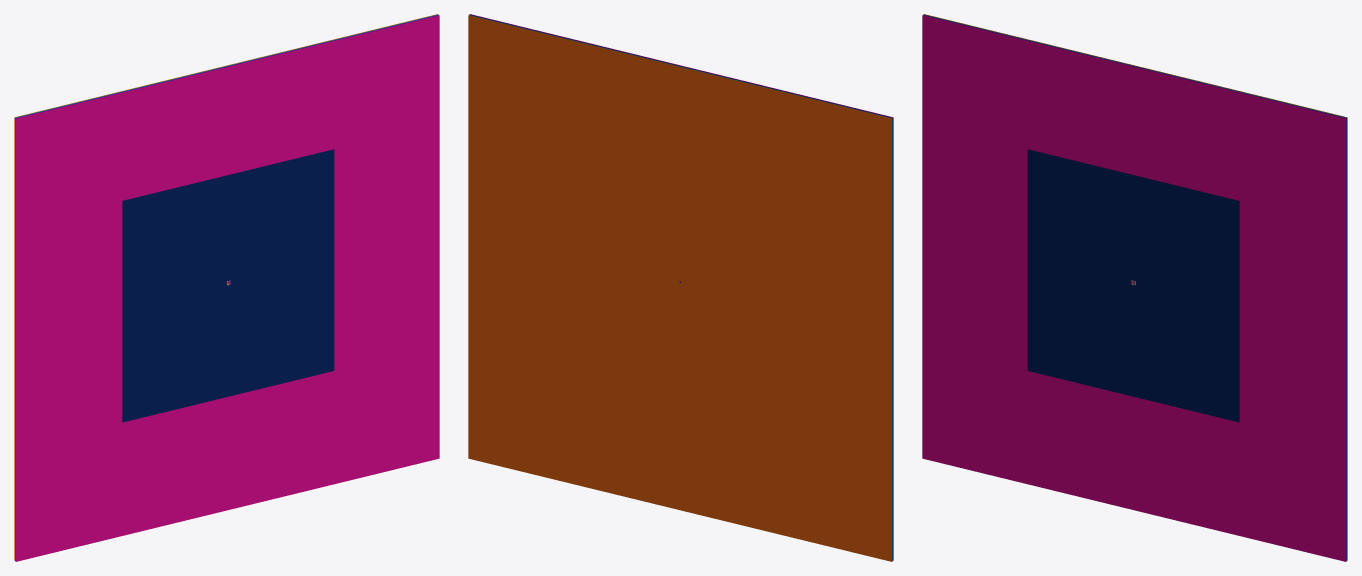
File: door.glb
3 renders of one model, left to right at view 1: azimuth 30°, elevation 25°; view 2: azimuth 150°, elevation 25°; view 3: azimuth 330°, elevation 25°, orthographic.
Visible parts, largest first — view 1: mask, mask.001, mask.002, mask.003, mask.004; view 2: mask.004, mask.003, mask.002, mask; view 3: mask, mask.001, mask.002, mask.003, mask.004.
Part boxes in pixels (x1,y1,x2,y2): mask: (16,15,439,561); mask.001: (122,149,334,422); mask.002: (15,15,438,561); mask.003: (15,14,438,560); mask.004: (14,14,437,560); mask.004: (468,15,891,561); mask.003: (469,15,892,561); mask.002: (469,14,892,560); mask: (470,14,893,560); mask: (922,15,1345,561); mask.001: (1027,149,1239,422); mask.002: (923,15,1346,561); mask.003: (923,14,1346,560); mask.004: (924,14,1347,560).
Size of the model in its own units: 919 by 919 by 10.01.
Materials: 1 (1 with a texture image).
